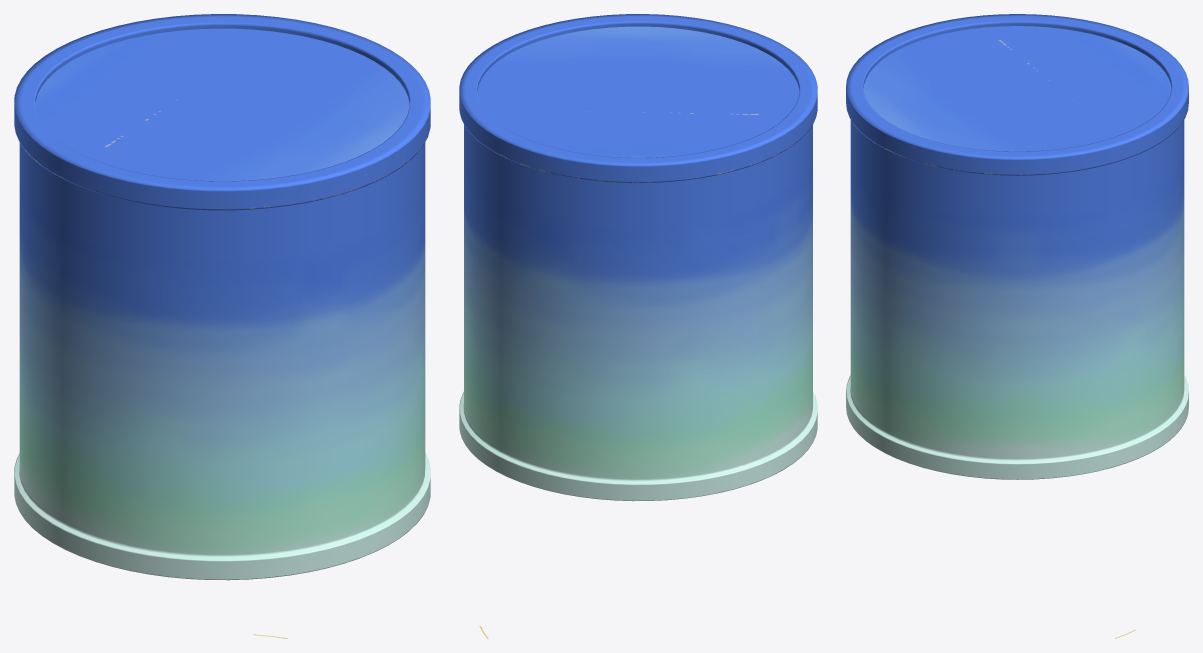
The model's file is Pecera.obj.
The picture shows the model from 3 angles, left to right: view 1: azimuth 30°, elevation 25°; view 2: azimuth 150°, elevation 25°; view 3: azimuth 270°, elevation 25°; orthographic projection. The views are drawn at different scales.
Parts seen in each view (by area): view 1: Pecera.LP_Material_Pecera, Base_Material_Pecera; view 2: Pecera.LP_Material_Pecera, Base_Material_Pecera; view 3: Pecera.LP_Material_Pecera, Base_Material_Pecera.
Part boxes in pixels (x1=…): Pecera.LP_Material_Pecera: x1=14, y1=14, x2=430, y2=580; Base_Material_Pecera: x1=35, y1=28, x2=409, y2=638; Pecera.LP_Material_Pecera: x1=459, y1=14, x2=817, y2=501; Base_Material_Pecera: x1=477, y1=26, x2=799, y2=638; Pecera.LP_Material_Pecera: x1=846, y1=14, x2=1188, y2=479; Base_Material_Pecera: x1=863, y1=26, x2=1171, y2=638.
Size of the model in its own units: 1.96 by 3.16 by 1.96.
